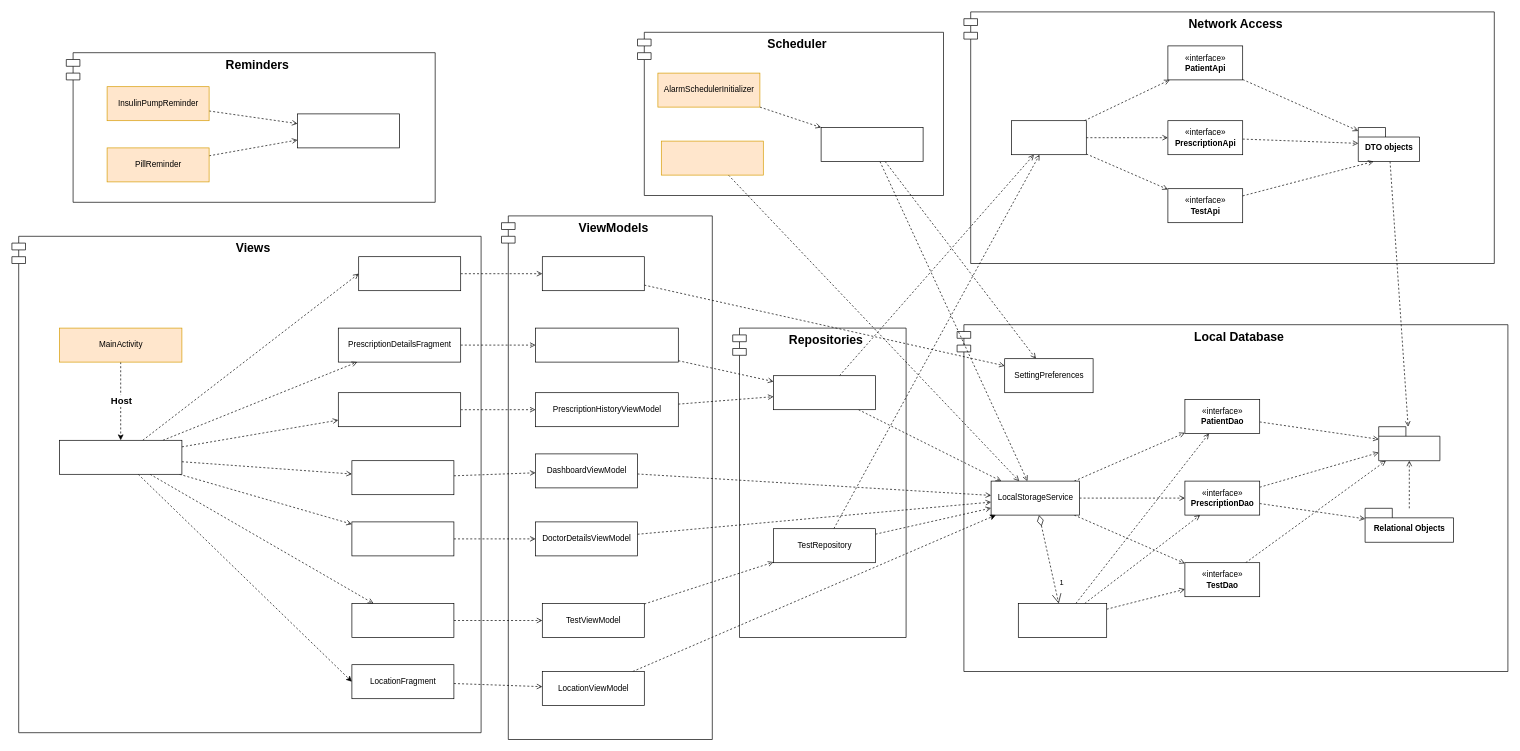
The diagram is 1520 pixels wide and 751 high, and some of its shapes have lost their labels. The shapes that lost their labels are listed below. From the top down, each one's centre as x and y in pixels, then its label:
pixel 348 130: NotificationRegister
pixel 871 144: PillAlarmScheduler
pixel 1048 137: NetworkService
pixel 712 157: LocalStorageInitializer
pixel 409 273: SettingsFragment
pixel 593 273: SettingsViewModel
pixel 606 344: PrescriptionDetailsViewModel
pixel 399 409: PrescriptionHistoryFragment
pixel 824 392: PrescriptionRepository
pixel 120 457: NavigationComponent
pixel 1409 443: Data Objects
pixel 402 477: DashboardFragment
pixel 402 538: DoctorDetailsFragment
pixel 402 620: TestFragment
pixel 1062 620: MedicalDatabase
